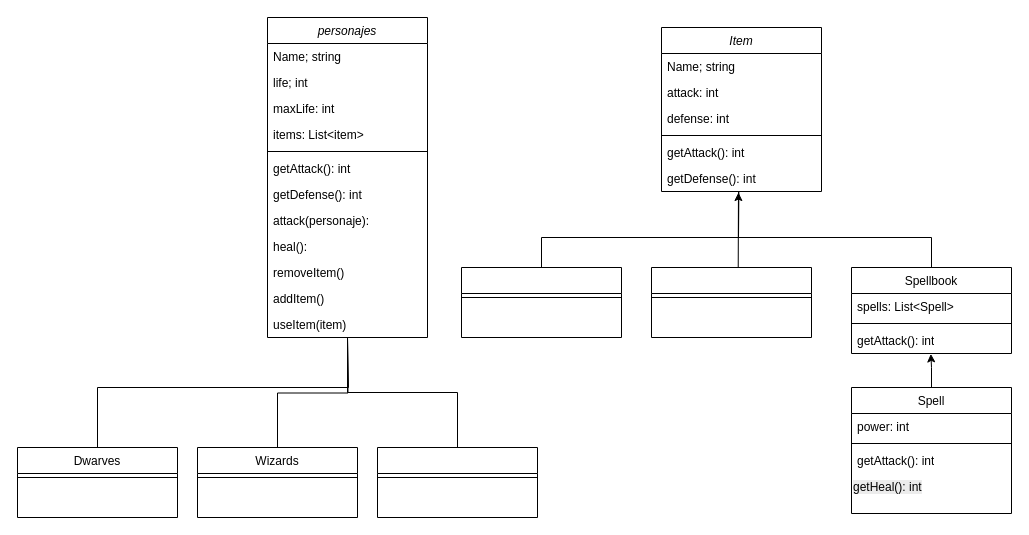
This 1029x535 diagram has some shape labels left out. The centre of each missing label's shape, as x and y in pixels:
"Armor" goes at point (541, 302).
"Elfes" goes at point (457, 482).
"Weapon" goes at point (731, 302).
